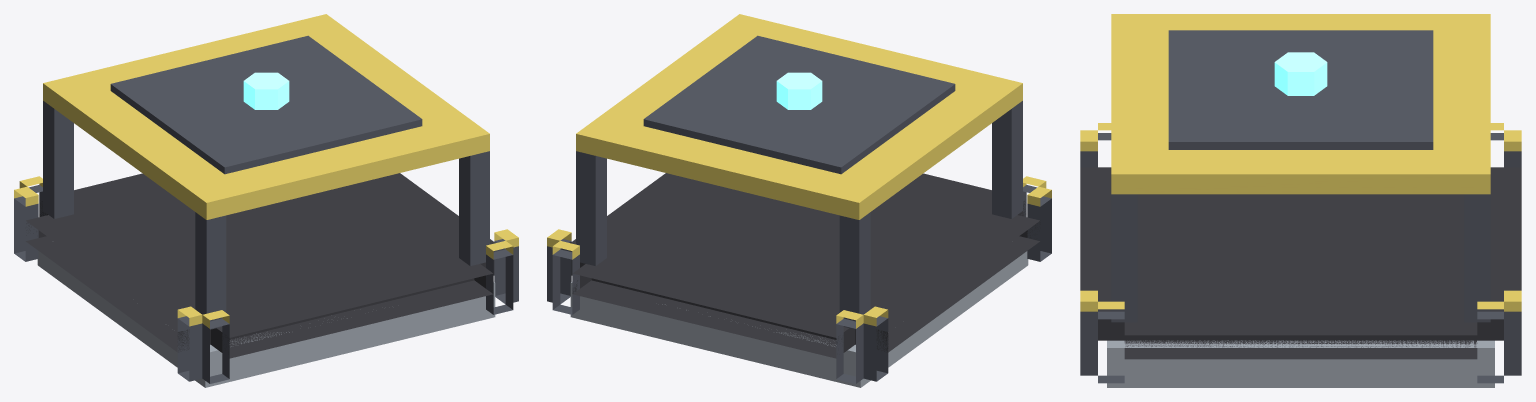
The model's file is divisor.glb.
The picture shows the model from 3 angles, left to right: view 1: azimuth 30°, elevation 25°; view 2: azimuth 150°, elevation 25°; view 3: azimuth 270°, elevation 25°; orthographic projection. The views are drawn at different scales.
Visible parts, largest first — view 1: divisor; view 2: divisor; view 3: divisor.
Part boxes in pixels (x1,y1,x2,y2): divisor: [14, 14, 518, 387]; divisor: [547, 14, 1051, 387]; divisor: [1080, 14, 1521, 387].
Bounding box in the file's own units: 1 × 0.61 × 1.
